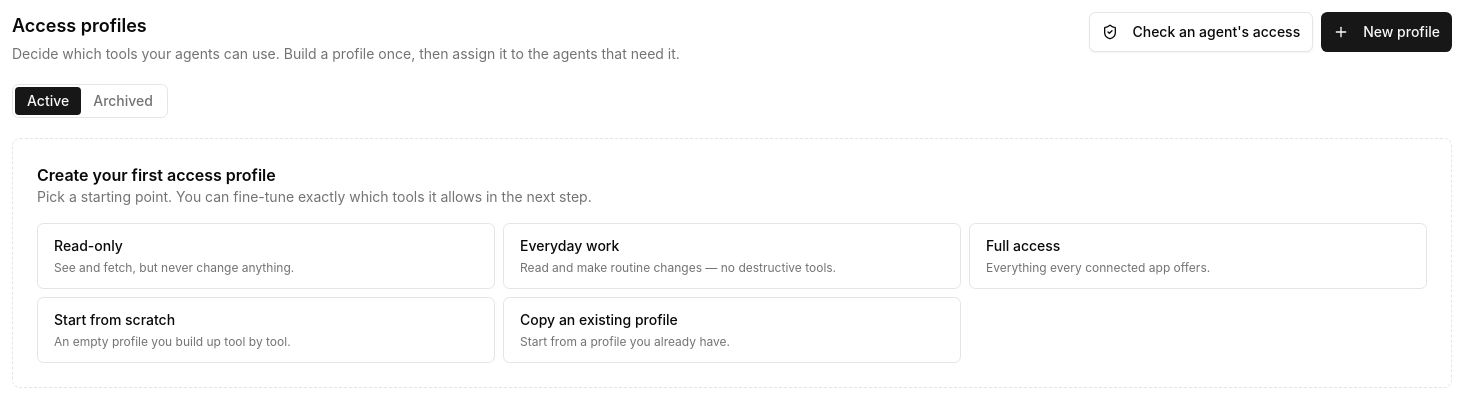
Test: ProfilesIndex › shows archived profiles only after switching to the Archived filter
Check: the text "Old one" is not shown
Click the button "Archived" at (123,101), box [81,87,165,115]
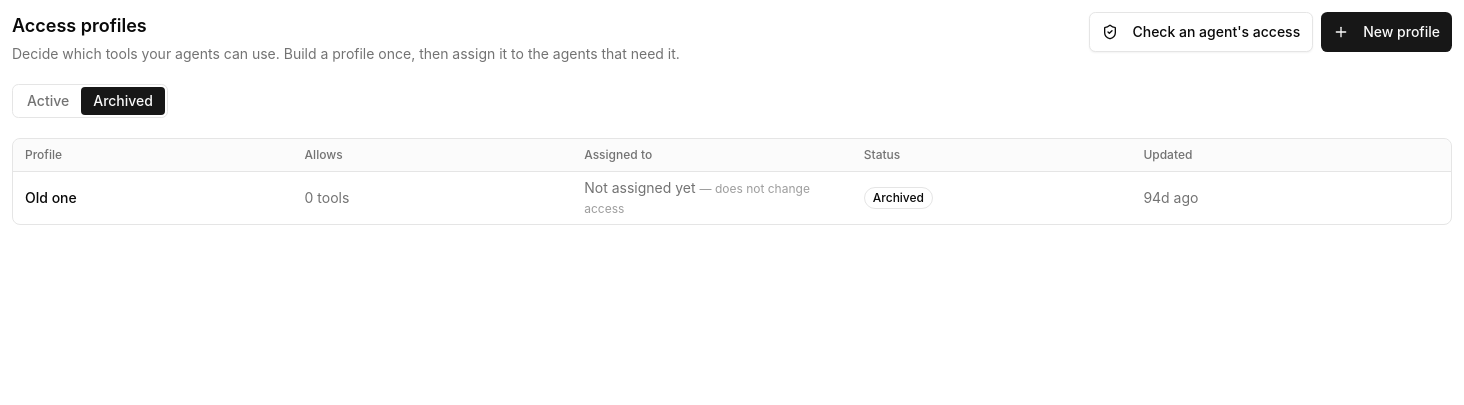
Check: the text "Old one" is shown, box [25,188,281,208]
